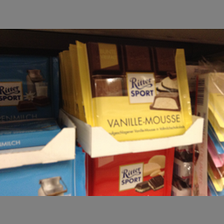chocolate: (76, 41, 191, 141), (84, 148, 173, 196), (1, 57, 58, 130)
